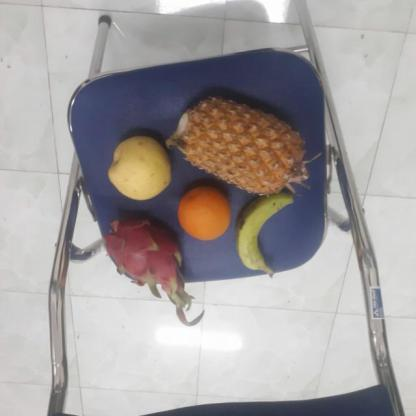banana: (233, 192, 298, 275)
orange: (175, 185, 234, 243)
pear: (105, 136, 176, 199)
pineapple: (173, 96, 314, 196)
pitaya: (107, 211, 189, 292)
